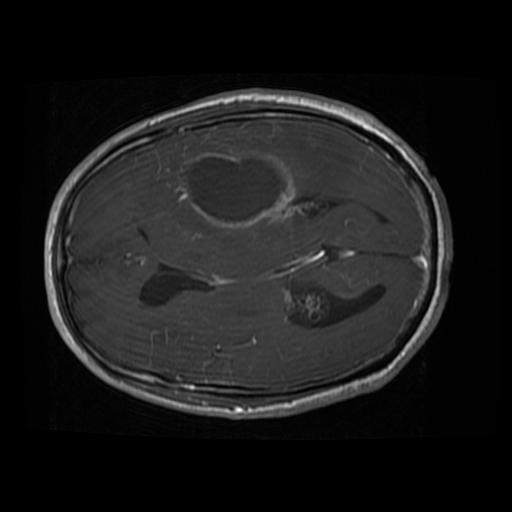glioma: (176, 148, 299, 230)
